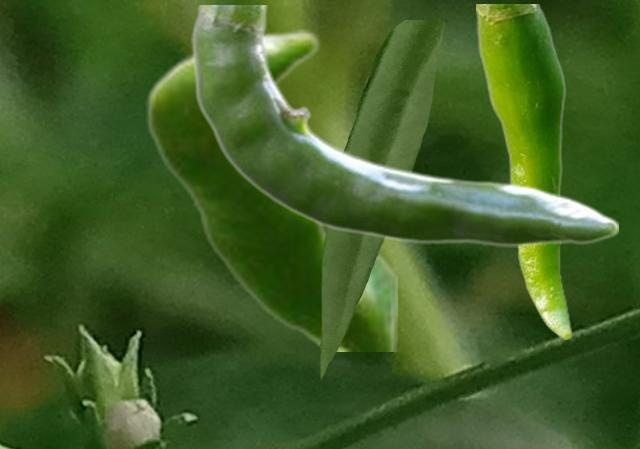green_chili: (191, 5, 617, 246), (145, 29, 396, 350), (476, 4, 570, 338)
